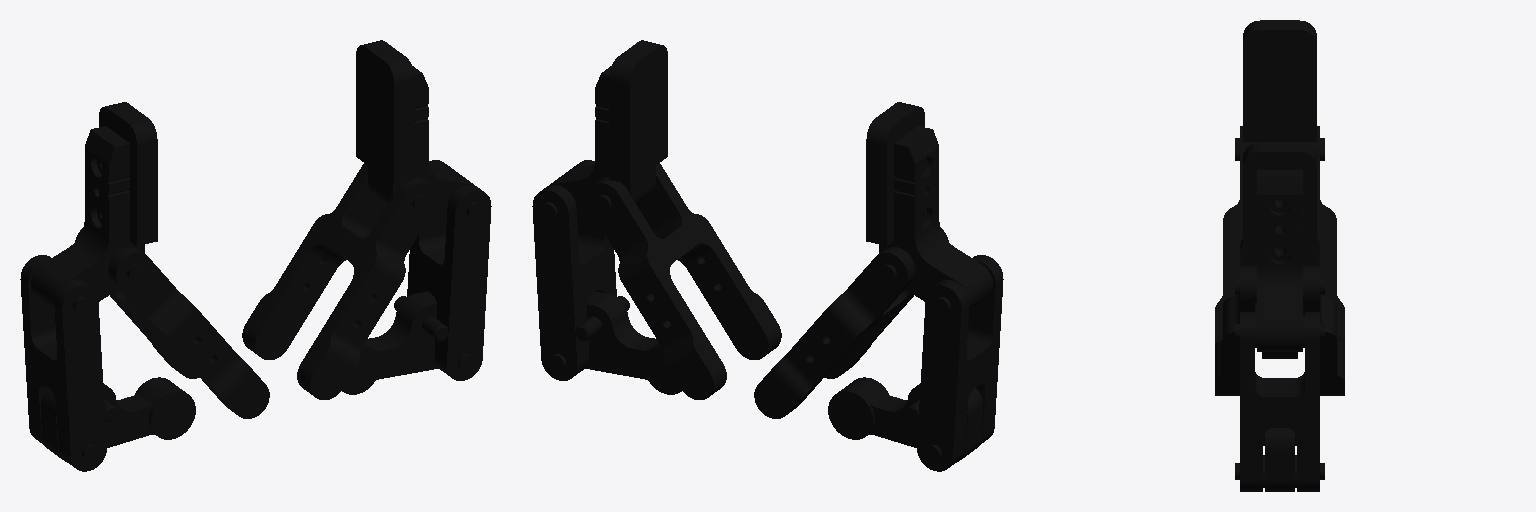
URDF robot description (robotiq_arg85_description):
<robot
  name="robotiq_arg85_description">
  <link
    name="robotiq_85_base_link">
    <inertial>
      <origin
        xyz="0.00021987 -2.3546E-10 0.030163"
        rpy="0 0 0" />
      <mass
        value="0.30915" />
      <inertia
        ixx="0.00028972"
        ixy="-5.7879E-10"
        ixz="-1.8543E-06"
        iyy="0.00030737"
        iyz="1.682E-12"
        izz="0.00019914" />
    </inertial>
    <visual>
      <origin
        xyz="0 0 0"
        rpy="0 0 0" />
      <geometry>
        <mesh
          filename="meshes/2finger/robotiq_85_base_link_fine.stl.obj" />
      </geometry>
      <material
        name="">
        <color
          rgba="0.1 0.1 0.1 1" />
      </material>
    </visual>
    <collision>
      <origin
        xyz="0 0 0"
        rpy="0 0 0" />
      <geometry>
        <mesh
          filename="meshes/2finger/robotiq_85_base_link_coarse.stl.obj" />
      </geometry>
    </collision>
  </link>
  <link
    name="left_outer_knuckle">
    <inertial>
      <origin
        xyz="0.0178331863169983 3.68915177224286E-11 0.0021442477325704"
        rpy="0 0 0" />
      <mass
        value="0.00684838849434396" />
      <inertia
        ixx="2.66832029033166E-07"
        ixy="1.66142314639824E-15"
        ixz="1.45945633322873E-07"
        iyy="1.3889233257419E-06"
        iyz="2.82951161241588E-15"
        izz="1.26603336914415E-06" />
    </inertial>
    <visual>
      <origin
        xyz="0 0 0"
        rpy="0 0 0" />
      <geometry>
        <mesh
          filename="meshes/2finger/outer_knuckle_fine.stl.obj" />
      </geometry>
      <material
        name="">
        <color
          rgba="0.1 0.1 0.1 1" />
      </material>
    </visual>
    <collision>
      <origin
        xyz="0 0 0"
        rpy="0 0 0" />
      <geometry>
        <mesh
          filename="meshes/2finger/outer_knuckle_coarse.stl.obj" />
      </geometry>
    </collision>
  </link>
  <joint
    name="finger_joint"
    type="revolute">
    <origin
      xyz="0.0306011444260539 0 0.0627920162695395"
      rpy="0 0 0" />
    <parent
      link="robotiq_85_base_link" />
    <child
      link="left_outer_knuckle" />
    <axis
      xyz="0 -1 0" />
    <limit
	  lower="0"
      upper="0.725"
      velocity="2.0"
      effort="1000" />
  </joint>
  <link
    name="left_outer_finger">
    <inertial>
      <origin
        xyz="0.00131451599174296 2.88942057994543E-15 0.0215404163180413"
        rpy="0 0 0" />
      <mass
        value="0.0273093985570947" />
      <inertia
        ixx="8.51629628283022E-06"
        ixy="2.58174336207405E-19"
        ixz="3.83829504344079E-07"
        iyy="6.9133328065108E-06"
        iyz="-7.58589926143789E-19"
        izz="2.25006832221981E-06" />
    </inertial>
    <visual>
      <origin
        xyz="0 0 0"
        rpy="0 0 0" />
      <geometry>
        <mesh
          filename="meshes/2finger/outer_finger_fine.stl.obj" />
      </geometry>
      <material
        name="">
        <color
          rgba="0.1 0.1 0.1 1" />
      </material>
    </visual>
    <collision>
      <origin
        xyz="0 0 0"
        rpy="0 0 0" />
      <geometry>
        <mesh
          filename="meshes/2finger/outer_finger_coarse.stl.obj" />
      </geometry>
    </collision>
  </link>
  <joint
    name="left_outer_finger_joint"
    type="fixed">
    <origin
      xyz="0.0316910442266543 0 -0.00193396375724605"
      rpy="0 0 0" />
    <parent
      link="left_outer_knuckle" />
    <child
      link="left_outer_finger" />
    <axis
      xyz="0 -1 0" />
  </joint>
  <link
    name="left_inner_knuckle">
    <inertial>
      <origin
        xyz="0.017097546626628 -3.93808524389535E-10 0.0224918438201868"
        rpy="0 0 0" />
      <mass
        value="0.0110930853895903" />
      <inertia
        ixx="4.23392770691541E-06"
        ixy="5.748978936968E-15"
        ixz="1.78855677119788E-06"
        iyy="3.96548790524392E-06"
        iyz="1.05464666369669E-14"
        izz="3.24068002883007E-06" />
    </inertial>
    <visual>
      <origin
        xyz="0 0 0"
        rpy="0 0 0" />
      <geometry>
        <mesh
          filename="meshes/2finger/inner_knuckle_fine.stl.obj" />
      </geometry>
      <material
        name="">
        <color
          rgba="0.1 0.1 0.1 1" />
      </material>
    </visual>
    <collision>
      <origin
        xyz="0 0 0"
        rpy="0 0 0" />
      <geometry>
        <mesh
          filename="meshes/2finger/inner_knuckle_coarse.stl.obj" />
      </geometry>
    </collision>
  </link>
  <joint
    name="left_inner_knuckle_joint"
    type="revolute">
    <origin
      xyz="0.0127000000001501 0 0.0693074999999639"
      rpy="0 0 0" />
    <parent
      link="robotiq_85_base_link" />
    <child
      link="left_inner_knuckle" />
    <axis
      xyz="0 -1 0" />
    <limit
      lower="0"
      upper="0.8757"
      velocity="2.0"
      effort="1000" />
    <mimic 
      joint="finger_joint"
      multiplier="1"
      offset="0" />
  </joint>
  <link
    name="left_inner_finger">
    <inertial>
      <origin
        xyz="0.0060275613594574 -6.29183141465421E-15 0.00669925693133241"
        rpy="0 0 0" />
      <mass
        value="0.00724255346165745" />
      <inertia
        ixx="1.47824274053603E-06"
        ixy="-3.94884463570303E-19"
        ixz="-3.45268847648622E-07"
        iyy="1.70064480838395E-06"
        iyz="3.5059838910097E-19"
        izz="4.77151336838364E-07" />
    </inertial>
    <visual>
      <origin
        xyz="0 0 0"
        rpy="0 0 0" />
      <geometry>
        <mesh
          filename="meshes/2finger/inner_finger_fine.stl.obj" />
      </geometry>
      <material
        name="">
        <color
          rgba="0.1 0.1 0.1 1" />
      </material>
    </visual>
    <collision>
      <origin
        xyz="0 0 0"
        rpy="0 0 0" />
      <geometry>
        <mesh
          filename="meshes/2finger/inner_finger_coarse.stl.obj" />
      </geometry>
    </collision>
  </link>
  <joint
    name="left_inner_finger_joint"
    type="revolute">
    <origin
      xyz="0.034585310861294 0 0.0454970193817975"
      rpy="0 0 0" />
    <parent
      link="left_inner_knuckle" />
    <child
      link="left_inner_finger" />
    <axis
      xyz="0 -1 0" />
    <limit
      lower="0"
      upper="0.8757"
      velocity="2.0"
      effort="1000" />
    <mimic 
      joint="finger_joint"
      multiplier="-1"
      offset="0" />
  </joint>
  <link
    name="right_inner_knuckle">
    <inertial>
      <origin
        xyz="0.0168606186773776 3.93808471820465E-10 0.0226699950793434"
        rpy="0 0 0" />
      <mass
        value="0.0110930853895903" />
      <inertia
        ixx="4.27134775939882E-06"
        ixy="-8.53568456728898E-15"
        ixz="1.77774229944246E-06"
        iyy="3.96548790524392E-06"
        iyz="-8.45108024914164E-15"
        izz="3.20325997634666E-06" />
    </inertial>
    <visual>
      <origin
        xyz="0 0 0"
        rpy="0 0 0" />
      <geometry>
        <mesh
          filename="meshes/2finger/inner_knuckle_fine.stl.obj" />
      </geometry>
      <material
        name="">
        <color
          rgba="0.1 0.1 0.1 1" />
      </material>
    </visual>
    <collision>
      <origin
        xyz="0 0 0"
        rpy="0 0 0" />
      <geometry>
        <mesh
          filename="meshes/2finger/inner_knuckle_coarse.stl.obj" />
      </geometry>
    </collision>
  </link>
  <joint
    name="right_inner_knuckle_joint"
    type="revolute">
    <origin
      xyz="-0.0126999999998499 0 0.0693075000000361"
      rpy="0 0 3.14159265358979" />
    <parent
      link="robotiq_85_base_link" />
    <child
      link="right_inner_knuckle" />
    <axis
      xyz="0 1 0" />
    <limit
      lower="0"
      upper="0.8757"
      velocity="2.0"
      effort="1000" />
    <mimic 
      joint="finger_joint"
      multiplier="-1"
      offset="0" />
  </joint>
  <link
    name="right_inner_finger">
    <inertial>
      <origin
        xyz="0.00602756228812038 -6.47284509480176E-15 0.00669925609578108"
        rpy="0 0 0" />
      <mass
        value="0.00724255346165744" />
      <inertia
        ixx="1.47824283625957E-06"
        ixy="-3.95952064019123E-19"
        ixz="-3.45268708875543E-07"
        iyy="1.70064480838394E-06"
        iyz="3.55286507960029E-19"
        izz="4.77151241114822E-07" />
    </inertial>
    <visual>
      <origin
        xyz="0 0 0"
        rpy="0 0 0" />
      <geometry>
        <mesh
          filename="meshes/2finger/inner_finger_fine.stl.obj" />
      </geometry>
      <material
        name="">
        <color
          rgba="0.1 0.1 0.1 1" />
      </material>
    </visual>
    <collision>
      <origin
        xyz="0 0 0"
        rpy="0 0 0" />
      <geometry>
        <mesh
          filename="meshes/2finger/inner_finger_coarse.stl.obj" />
      </geometry>
    </collision>
  </link>
  <joint
    name="right_inner_finger_joint"
    type="revolute">
    <origin
      xyz="0.0341060475457406 0 0.0458573878541688"
      rpy="0 0 0" />
    <parent
      link="right_inner_knuckle" />
    <child
      link="right_inner_finger" />
    <axis
      xyz="0 1 0" />
    <limit
      lower="0"
      upper="0.8757"
      velocity="2.0"
      effort="1000" />
    <mimic 
      joint="finger_joint"
      multiplier="1"
      offset="0" />
  </joint>
  <link
    name="right_outer_knuckle">
    <inertial>
      <origin
        xyz="0.0178097074051638 3.60493211424024E-11 0.00233123458346721"
        rpy="0 0 0" />
      <mass
        value="0.00684838849401352" />
      <inertia
        ixx="2.70004361573169E-07"
        ixy="1.59579467624491E-15"
        ixz="1.56396493788199E-07"
        iyy="1.38892332558312E-06"
        iyz="2.82357800318817E-15"
        izz="1.26286103637978E-06" />
    </inertial>
    <visual>
      <origin
        xyz="0 0 0"
        rpy="0 0 0" />
      <geometry>
        <mesh
          filename="meshes/2finger/outer_knuckle_fine.stl.obj" />
      </geometry>
      <material
        name="">
        <color
          rgba="0.1 0.1 0.1 1" />
      </material>
    </visual>
    <collision>
      <origin
        xyz="0 0 0"
        rpy="0 0 0" />
      <geometry>
        <mesh
          filename="meshes/2finger/outer_knuckle_coarse.stl.obj" />
      </geometry>
    </collision>
  </link>
  <joint
    name="right_outer_knuckle_joint"
    type="revolute">
    <origin
      xyz="-0.0306011444258893 0 0.0627920162695395"
      rpy="0 0 3.14159265358979" />
    <parent
      link="robotiq_85_base_link" />
    <child
      link="right_outer_knuckle" />
    <axis
      xyz="0 1 0" />
    <limit
      lower="0"
      upper="0.8757"
      velocity="2.0"
      effort="1000" />
    <mimic 
      joint="finger_joint"
      multiplier="-1"
      offset="0" />
  </joint>
  <link
    name="right_outer_finger">
    <inertial>
      <origin
        xyz="0.00108844269639009 -2.611488350845E-15 0.0215530225245502"
        rpy="0 0 0" />
      <mass
        value="0.0273093985570947" />
      <inertia
        ixx="8.52366028592721E-06"
        ixy="3.41683380899422E-19"
        ixz="3.18003675694284E-07"
        iyy="6.91333280651081E-06"
        iyz="7.37726682706417E-19"
        izz="2.24270431912283E-06" />
    </inertial>
    <visual>
      <origin
        xyz="0 0 0"
        rpy="0 0 0" />
      <geometry>
        <mesh
          filename="meshes/2finger/outer_finger_fine.stl.obj" />
      </geometry>
      <material
        name="">
        <color
          rgba="0.1 0.1 0.1 1" />
      </material>
    </visual>
    <collision>
      <origin
        xyz="0 0 0"
        rpy="0 0 0" />
      <geometry>
        <mesh
          filename="meshes/2finger/outer_finger_coarse.stl.obj" />
      </geometry>
    </collision>
  </link>
  <joint
    name="right_outer_finger_joint"
    type="fixed">
    <origin
      xyz="0.0317095909367246 0 -0.0016013564954687"
      rpy="0 0 0" />
    <parent
      link="right_outer_knuckle" />
    <child
      link="right_outer_finger" />
    <axis
      xyz="0 1 0" />
  </joint>
</robot>

--- What the picture shows (computed from the rendered views, not written in the file) ---
The picture shows the robot from 3 angles, left to right: view 1: azimuth 30°, elevation 25°; view 2: azimuth 150°, elevation 25°; view 3: azimuth 270°, elevation 25°; orthographic projection.
Robot: robotiq_arg85_description — 9 links, 8 joints (6 revolute, 2 fixed); root link robotiq_85_base_link; default pose: all joints at 0.
Links seen in each view (by area): view 1: left_inner_knuckle, right_inner_finger, right_outer_finger, left_inner_finger, left_outer_finger, right_inner_knuckle, right_outer_knuckle, left_outer_knuckle; view 2: left_inner_knuckle, right_inner_finger, right_outer_finger, left_inner_finger, left_outer_finger, right_inner_knuckle, right_outer_knuckle, left_outer_knuckle; view 3: left_inner_finger, left_outer_finger, right_inner_finger, left_inner_knuckle, right_inner_knuckle, left_outer_knuckle.
Boxes of the visible links, left/top/right/bottom form: left_inner_knuckle: left=242, top=163, right=437, bottom=399; right_inner_finger: left=31, top=102, right=157, bottom=309; right_outer_finger: left=20, top=255, right=106, bottom=471; left_inner_finger: left=356, top=40, right=474, bottom=220; left_outer_finger: left=407, top=160, right=491, bottom=380; right_inner_knuckle: left=75, top=227, right=269, bottom=418; right_outer_knuckle: left=40, top=377, right=195, bottom=462; left_outer_knuckle: left=342, top=292, right=448, bottom=394; left_inner_knuckle: left=586, top=163, right=781, bottom=399; right_inner_finger: left=866, top=102, right=992, bottom=309; right_outer_finger: left=917, top=255, right=1003, bottom=471; left_inner_finger: left=549, top=40, right=667, bottom=220; left_outer_finger: left=532, top=160, right=616, bottom=380; right_inner_knuckle: left=754, top=227, right=948, bottom=418; right_outer_knuckle: left=828, top=377, right=983, bottom=462; left_outer_knuckle: left=575, top=292, right=681, bottom=394; left_inner_finger: left=1243, top=142, right=1316, bottom=351; left_outer_finger: left=1235, top=312, right=1324, bottom=491; right_inner_finger: left=1243, top=20, right=1316, bottom=142; left_inner_knuckle: left=1215, top=267, right=1344, bottom=395; right_inner_knuckle: left=1215, top=133, right=1344, bottom=343; left_outer_knuckle: left=1263, top=428, right=1296, bottom=491.
Size in the robot's own frame: 0.1424 by 0.039 by 0.1043 metres.
Meshes: 5 distinct files referenced, 8 mesh visuals loaded (4 OBJ); not drawn: 1 (reference not matched to a file when rendering).
